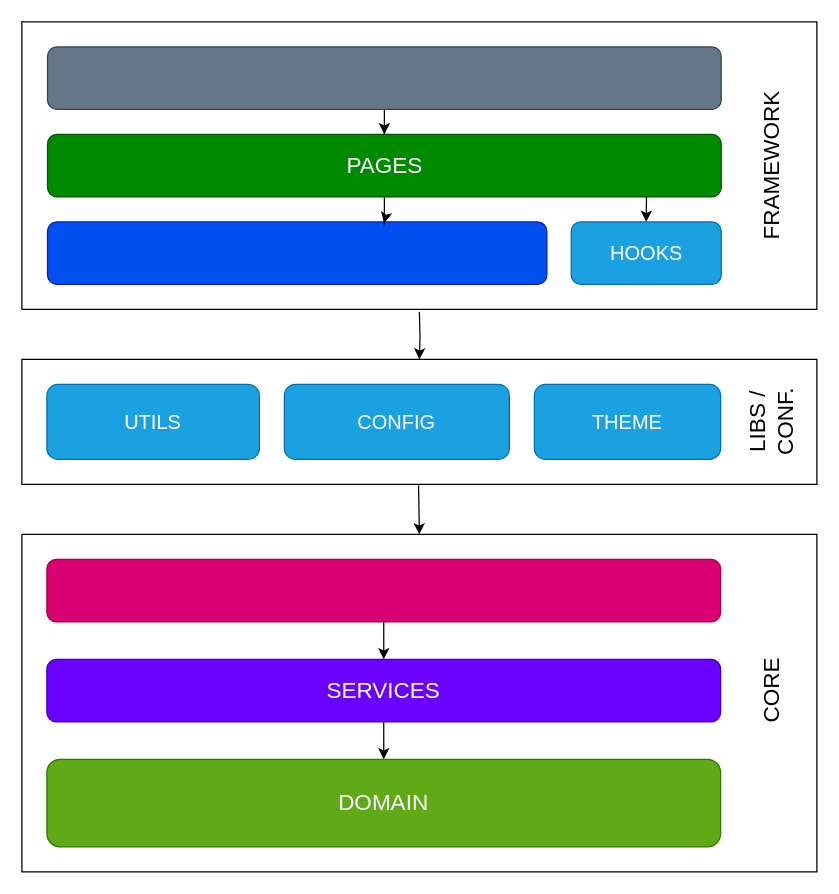
Image size: 839x894. Some labels were removed from this diagram. Each missing label, with the centre of its shape:
COMPONENTS: (296,252)
NAVIGATION: (383,77)
STORE: (383,590)
